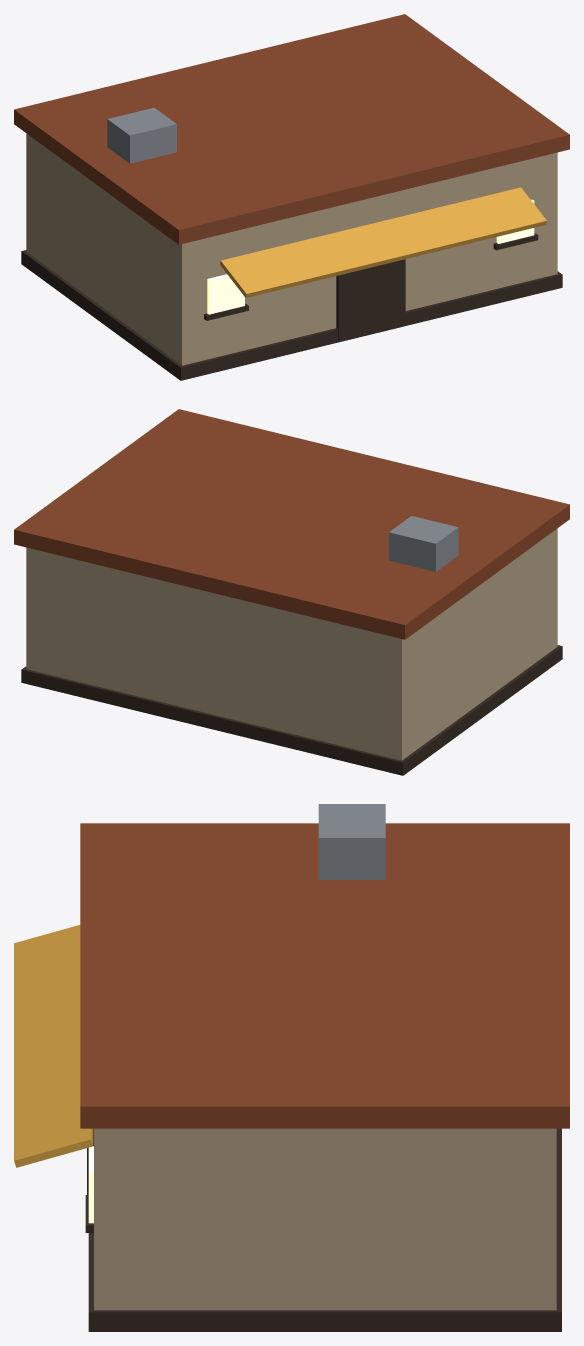
Rendered from bld_flat.glb.
3 renders of one model, top to bottom at view 1: azimuth 30°, elevation 25°; view 2: azimuth 150°, elevation 25°; view 3: azimuth 270°, elevation 25°, orthographic. The views are drawn at different scales.
Parts seen in each view (by area): view 1: building; view 2: building; view 3: building.
Part boxes in pixels (<box>): building: <box>14,14,569,380</box>; building: <box>14,409,569,775</box>; building: <box>14,804,569,1331</box>.
Size of the model in its own units: 5 by 2.23 by 4.15.
